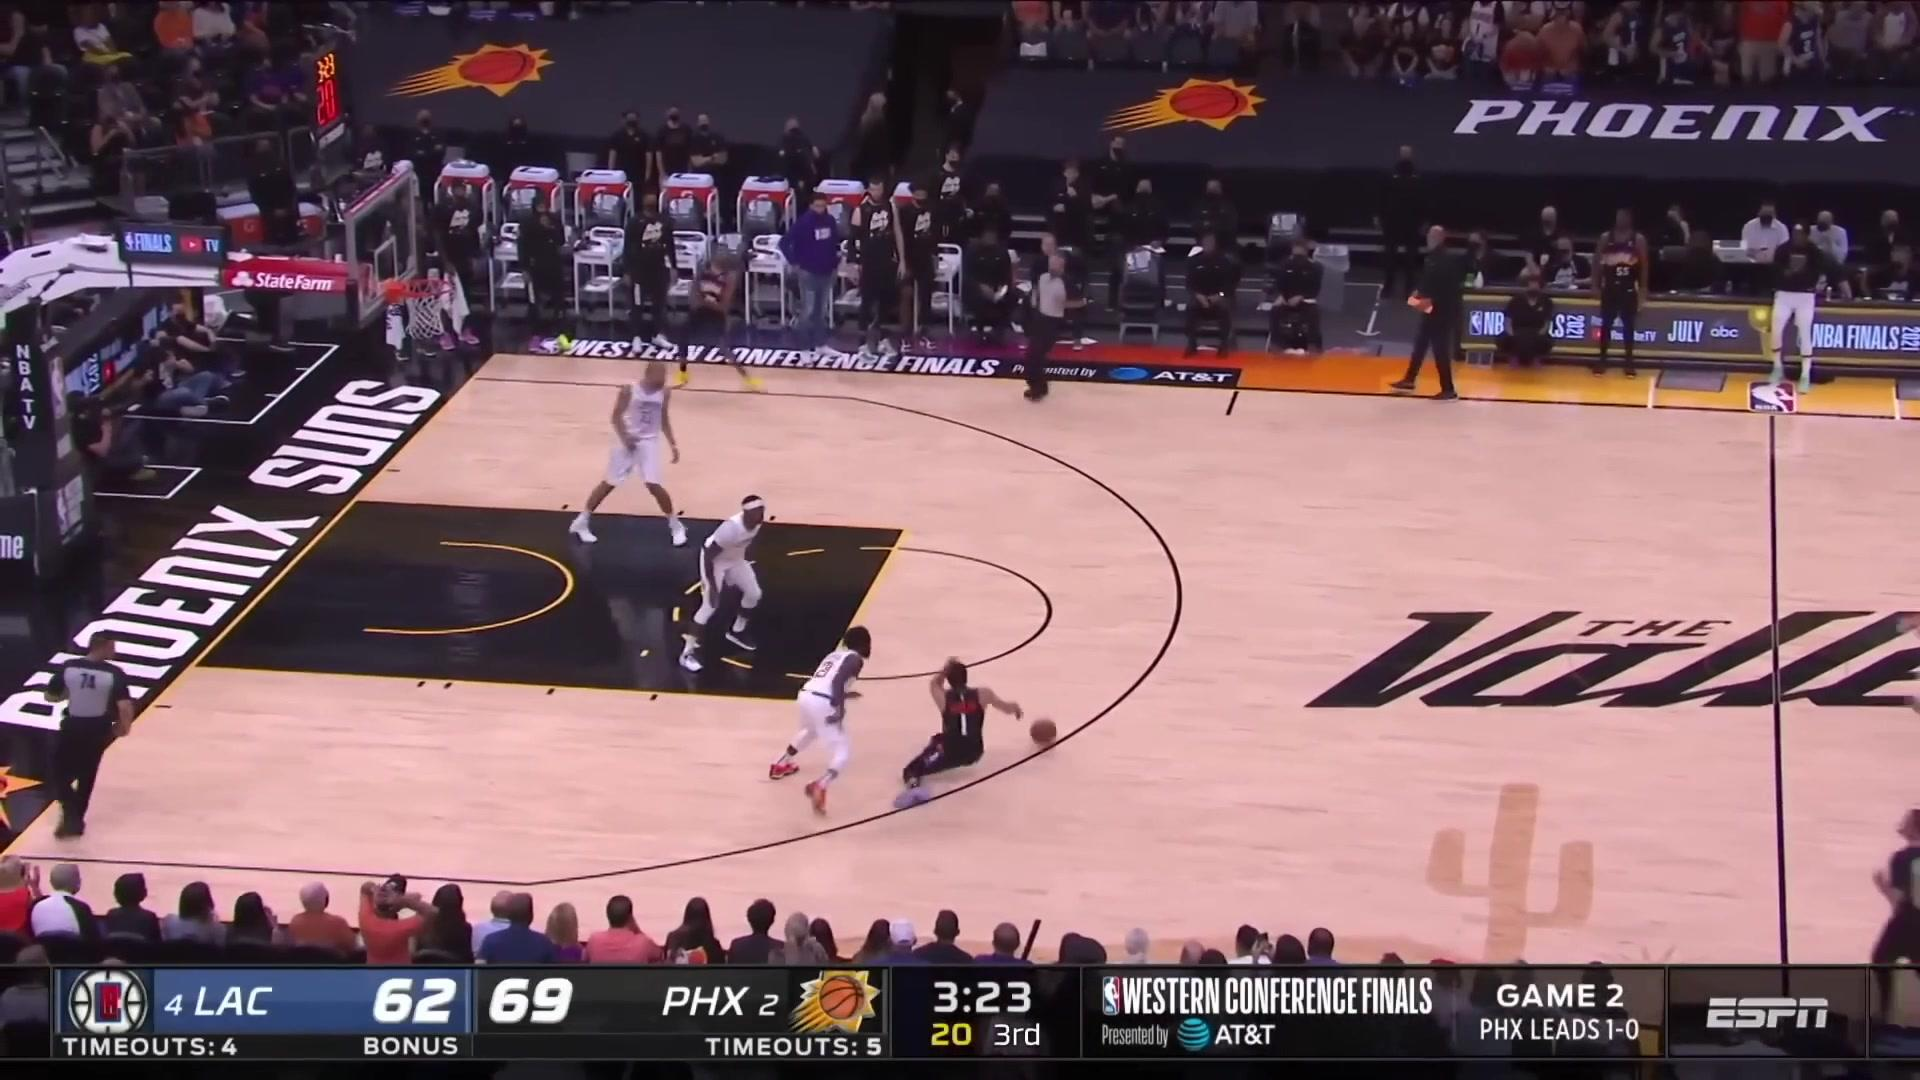no_foul: (761, 607, 1056, 851)
